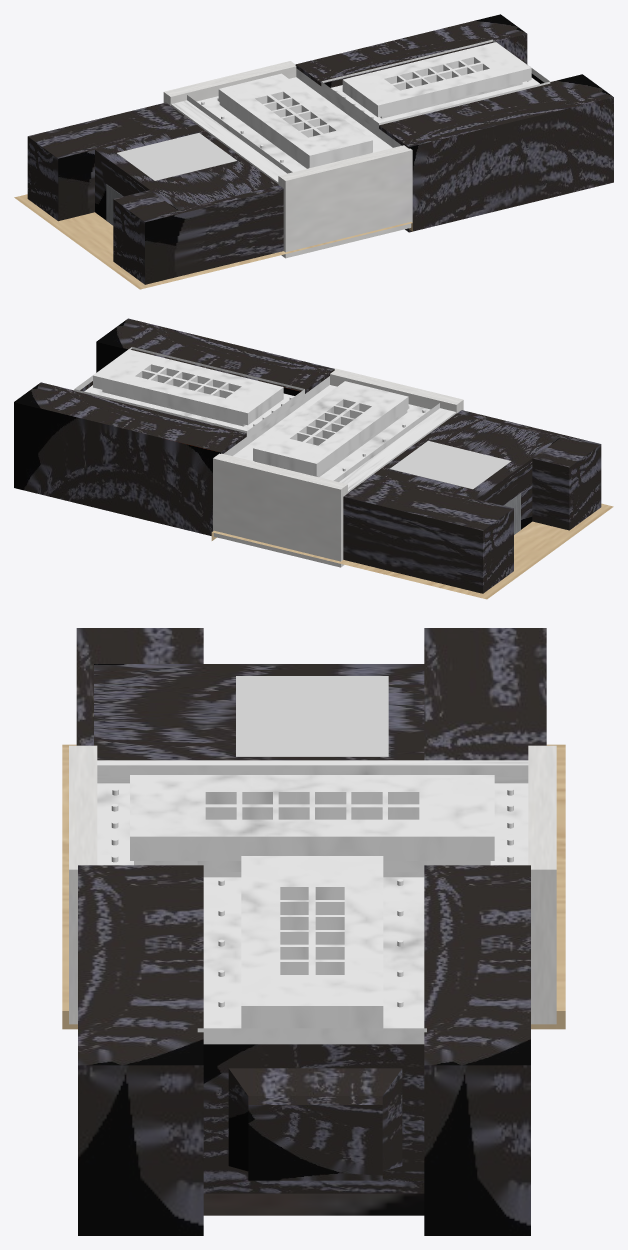
The picture shows the model from 3 angles, top to bottom: view 1: azimuth 30°, elevation 25°; view 2: azimuth 150°, elevation 25°; view 3: azimuth 270°, elevation 25°; orthographic projection. The views are drawn at different scales.
Parts seen in each view (by area): view 1: 墙体.016, 墙体.003, 墙体.015, 墙体.002, 顶面.001, 顶面.002, 墙体.009, 墙体.010, 顶面.003, 地面.001, 顶面.000, 顶面.004 (+2 smaller); view 2: 墙体.010, 墙体.002, 墙体.008, 顶面.001, 顶面.002, 墙体.009, 墙体.016, 墙体.003, 顶面.003, 地面.001, 顶面.000, 顶面.004 (+2 smaller); view 3: 墙体.016, 墙体.010, 墙体.011, 顶面.002, 顶面.001, 墙体.009, 顶面.004, 墙体.002, 顶面.000, 顶面.003, 墙体.008, 墙体.003 (+4 smaller).
Part boxes in pixels (x1=…): 墙体.016: x1=379, y1=74, x2=613, y2=232; 墙体.003: x1=113, y1=185, x2=283, y2=284; 墙体.015: x1=278, y1=145, x2=412, y2=258; 墙体.002: x1=27, y1=102, x2=196, y2=221; 顶面.001: x1=342, y1=42, x2=531, y2=117; 顶面.002: x1=218, y1=73, x2=372, y2=167; 墙体.009: x1=95, y1=125, x2=278, y2=220; 墙体.010: x1=295, y1=14, x2=527, y2=87; 顶面.003: x1=187, y1=68, x2=401, y2=173; 地面.001: x1=14, y1=194, x2=412, y2=289; 顶面.000: x1=117, y1=133, x2=236, y2=180; 顶面.004: x1=321, y1=39, x2=550, y2=131; 墙体.010: x1=14, y1=382, x2=246, y2=535; 墙体.002: x1=343, y1=474, x2=513, y2=593; 墙体.008: x1=213, y1=453, x2=347, y2=567; 顶面.001: x1=93, y1=349, x2=283, y2=425; 顶面.002: x1=253, y1=381, x2=408, y2=476; 墙体.009: x1=374, y1=413, x2=559, y2=529; 墙体.016: x1=96, y1=318, x2=334, y2=395; 墙体.003: x1=458, y1=410, x2=601, y2=530; 顶面.003: x1=223, y1=376, x2=439, y2=481; 地面.001: x1=211, y1=503, x2=613, y2=599; 顶面.000: x1=390, y1=441, x2=511, y2=489; 顶面.004: x1=74, y1=347, x2=304, y2=438; 墙体.016: x1=78, y1=865, x2=203, y2=1235; 墙体.010: x1=424, y1=865, x2=530, y2=1235; 墙体.011: x1=203, y1=1044, x2=424, y2=1193; 顶面.002: x1=130, y1=775, x2=494, y2=860; 顶面.001: x1=241, y1=856, x2=383, y2=1028; 墙体.009: x1=94, y1=664, x2=424, y2=760; 顶面.004: x1=197, y1=861, x2=426, y2=1044; 墙体.002: x1=424, y1=628, x2=546, y2=760; 顶面.000: x1=236, y1=676, x2=388, y2=756; 顶面.003: x1=97, y1=765, x2=528, y2=877; 墙体.008: x1=528, y1=745, x2=556, y2=1024; 墙体.003: x1=76, y1=628, x2=203, y2=745.
Bounding box in the file's own units: 216 × 40.96 × 98.7.
